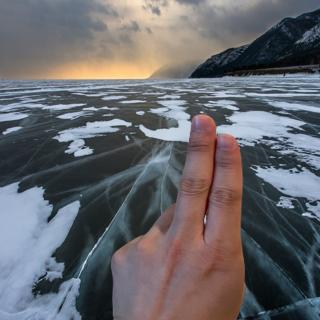DHAVE: (102, 108, 253, 320)
